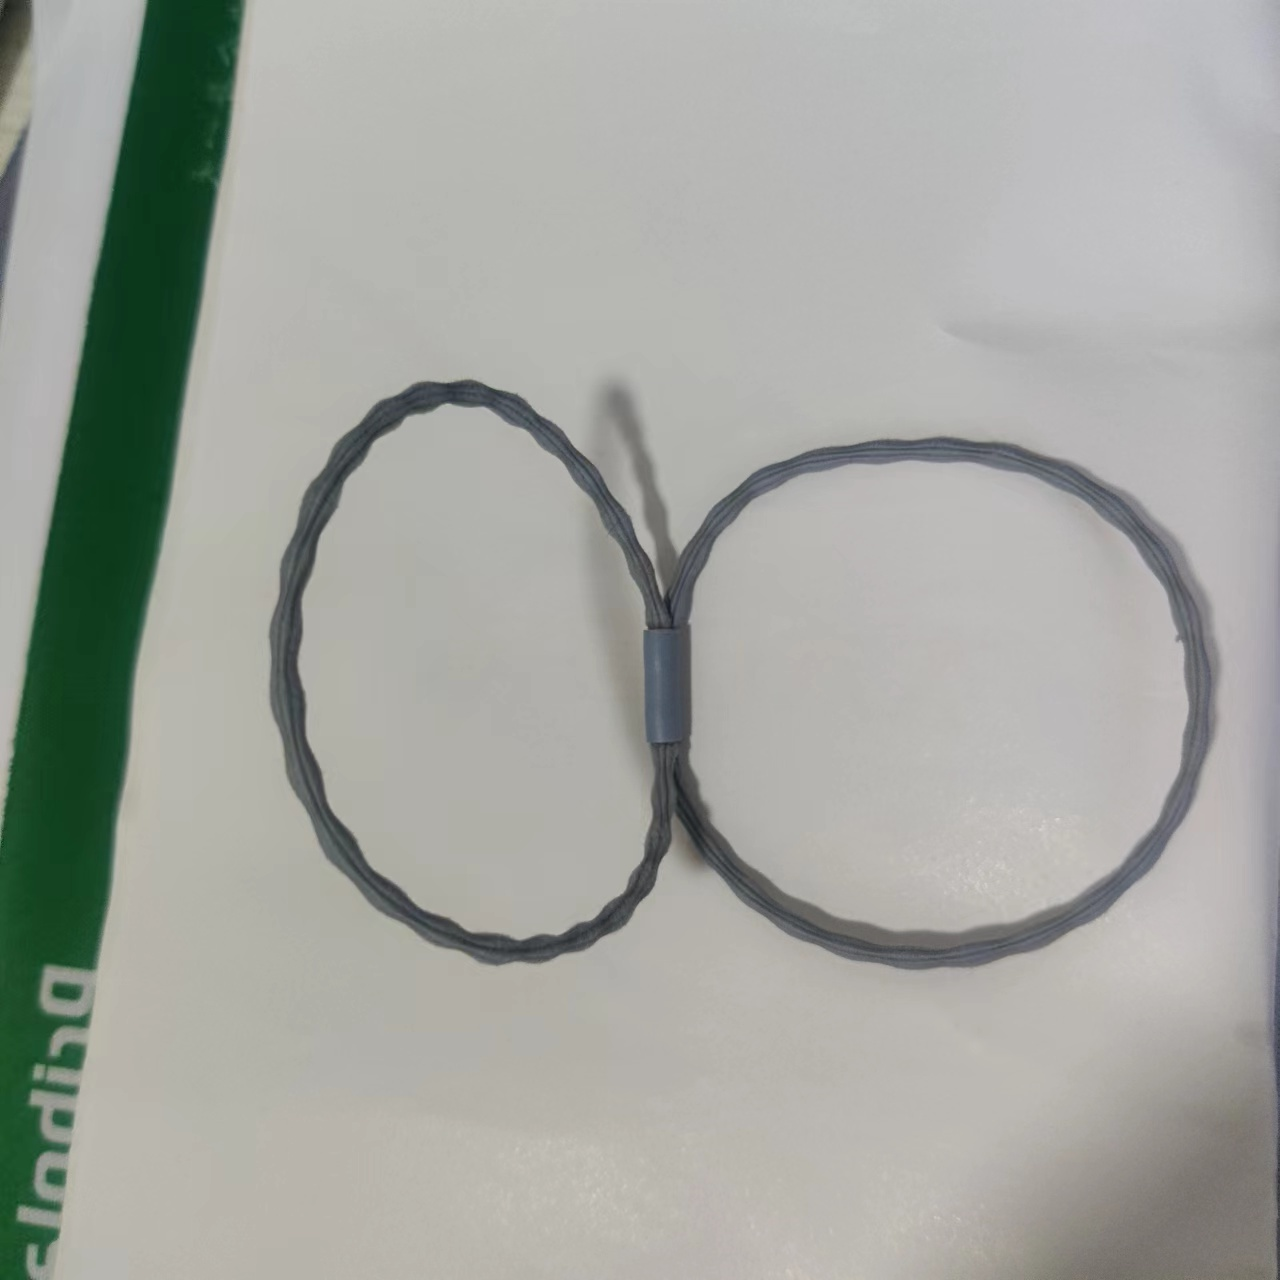9/可回收垃圾/绳子: (268, 377, 1214, 972)
